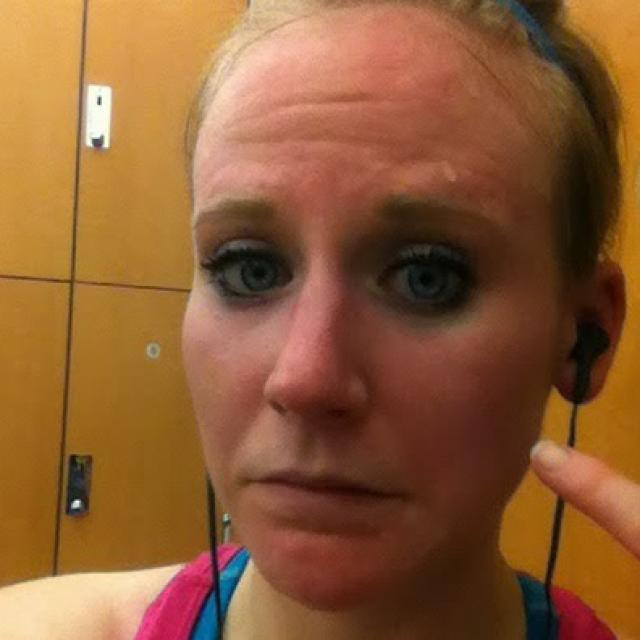Depress: (178, 3, 564, 614)
